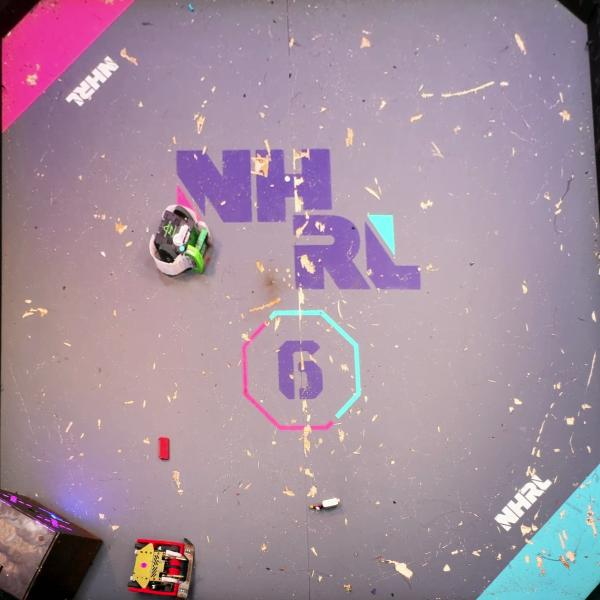housebot: (0, 489, 105, 600)
robot: (149, 204, 213, 278), (127, 534, 197, 600)
